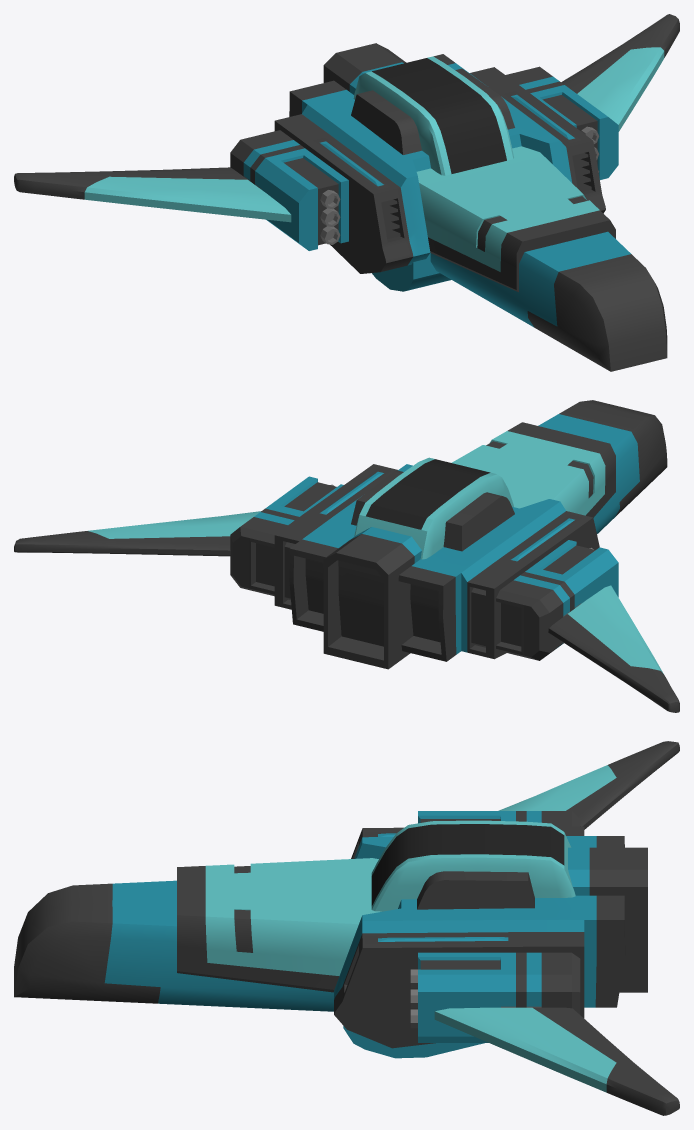
The model's file is Spaceship_3.glb.
The picture shows the model from 3 angles, top to bottom: view 1: azimuth 30°, elevation 25°; view 2: azimuth 150°, elevation 25°; view 3: azimuth 270°, elevation 25°; orthographic projection. The views are drawn at different scales.
Parts seen in each view (by area): view 1: Spaceship_FernandoTheFlamingo; view 2: Spaceship_FernandoTheFlamingo; view 3: Spaceship_FernandoTheFlamingo.
Boxes of the visible parts, x1,y1,x2,y2 form: Spaceship_FernandoTheFlamingo: (14, 14, 679, 371); Spaceship_FernandoTheFlamingo: (14, 400, 679, 712); Spaceship_FernandoTheFlamingo: (14, 741, 679, 1115).
Bounding box in the file's own units: 11.14 × 2.53 × 8.66.
1 material, 1 textured.
